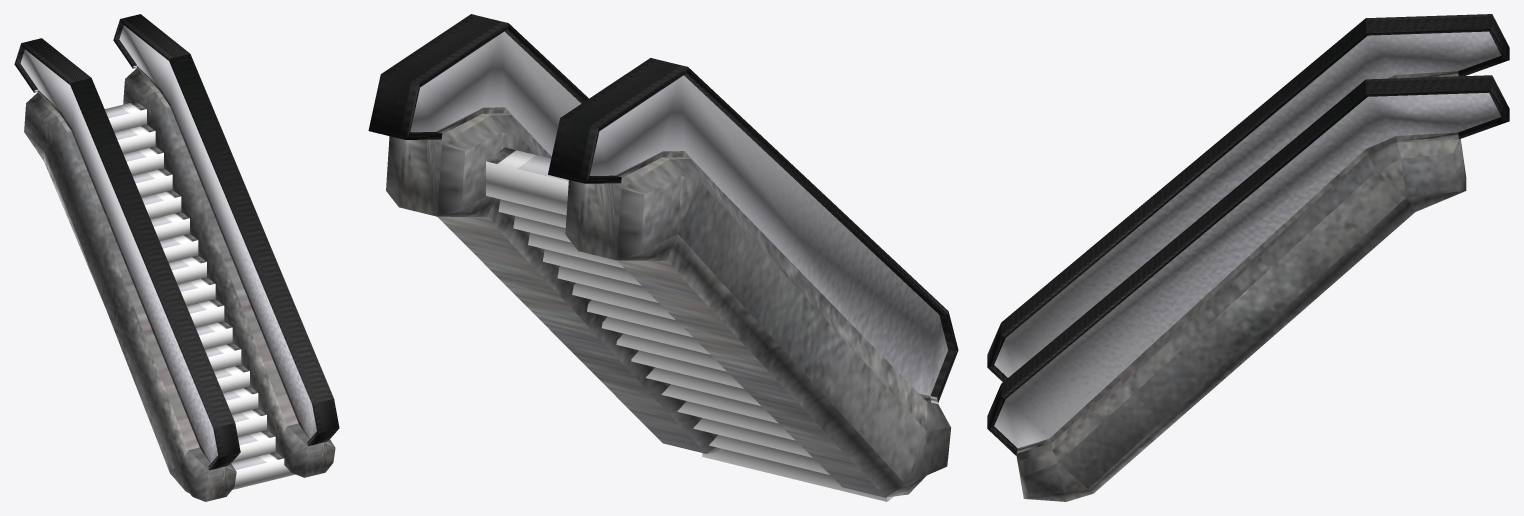
Rendered from escalateur.fbx.
3 renders of one model, left to right at view 1: azimuth 30°, elevation 25°; view 2: azimuth 150°, elevation 25°; view 3: azimuth 270°, elevation 25°, orthographic. The views are drawn at different scales.
Parts seen in each view (by area): view 1: escalateur; view 2: escalateur; view 3: escalateur.
Boxes of the visible parts, left/top/right/bottom form: escalateur: left=14, top=14, right=339, bottom=501; escalateur: left=368, top=14, right=958, bottom=501; escalateur: left=987, top=14, right=1509, bottom=501.
Bounding box in the file's own units: 166 × 371 × 422.
